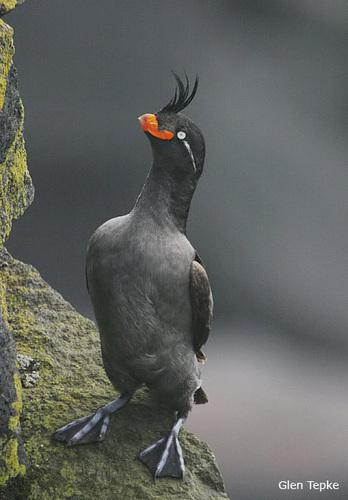005.Crested_Auklet: (51, 71, 216, 485)
